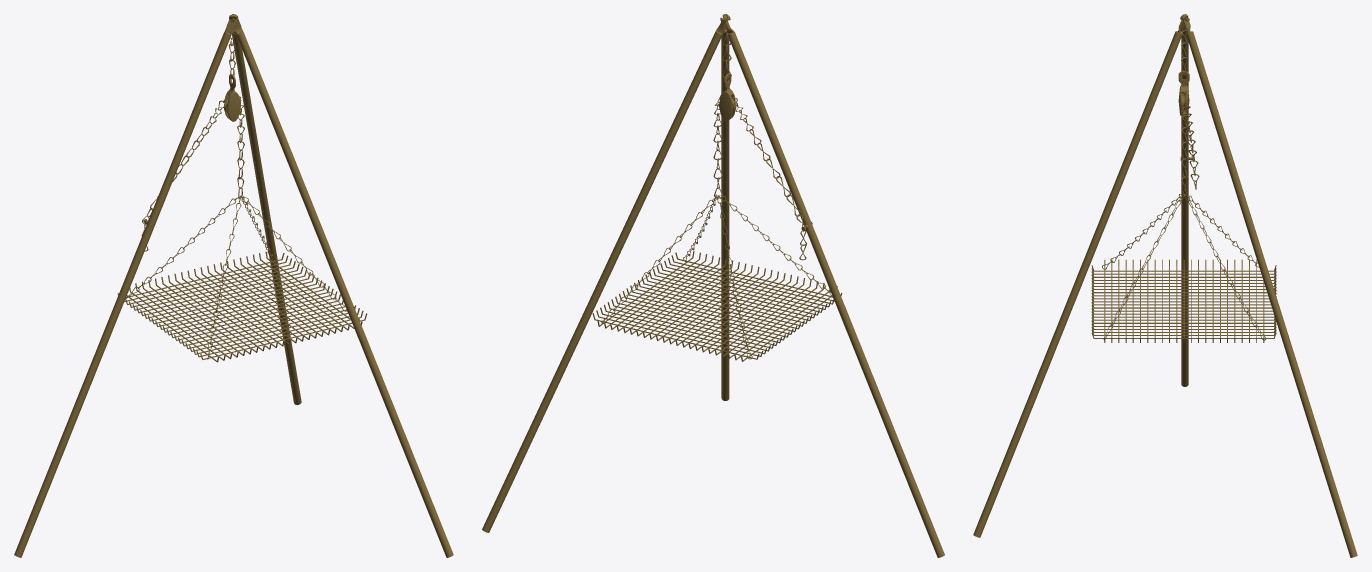
The model's file is Tripod FBX.FBX.
3 views of the same model, side by side, from view 1: azimuth 30°, elevation 25°; view 2: azimuth 150°, elevation 25°; view 3: azimuth 270°, elevation 25° (orthographic). The views are drawn at different scales.
Visible parts, largest first — view 1: Tripod_Base, Tripod_Grill; view 2: Tripod_Base, Tripod_Grill; view 3: Tripod_Base, Tripod_Grill.
Boxes of the visible parts, bbox=[...] form: Tripod_Base: bbox=[14, 14, 453, 557]; Tripod_Grill: bbox=[117, 105, 367, 362]; Tripod_Base: bbox=[482, 14, 944, 557]; Tripod_Grill: bbox=[592, 104, 842, 361]; Tripod_Base: bbox=[973, 14, 1357, 557]; Tripod_Grill: bbox=[1091, 106, 1276, 342].
Size of the model in its own units: 48.47 by 60.74 by 44.84.
